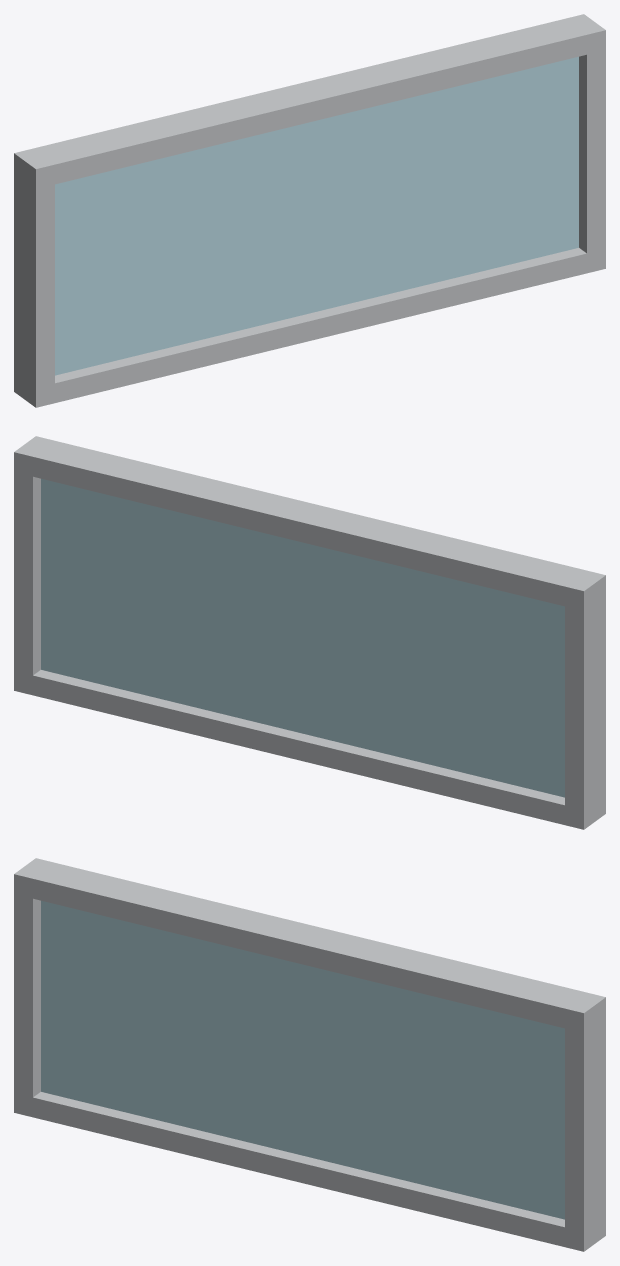
Rendered from opening.window.fixed_1500x600.glb.
3 views of the same model, one above another, from view 1: azimuth 30°, elevation 25°; view 2: azimuth 150°, elevation 25°; view 3: azimuth 330°, elevation 25° (orthographic).
Visible parts, largest first — view 1: glazing__glass, frame__aluminium; view 2: glazing__glass, frame__aluminium; view 3: glazing__glass, frame__aluminium.
Boxes of the visible parts, left/top/right/bottom form: glazing__glass: left=55, top=56, right=578, bottom=375; frame__aluminium: left=14, top=14, right=605, bottom=407; glazing__glass: left=41, top=478, right=564, bottom=797; frame__aluminium: left=14, top=436, right=605, bottom=829; glazing__glass: left=41, top=900, right=564, bottom=1219; frame__aluminium: left=14, top=858, right=605, bottom=1251.
Bounding box in the file's own units: 1.5 × 0.6 × 0.1.
